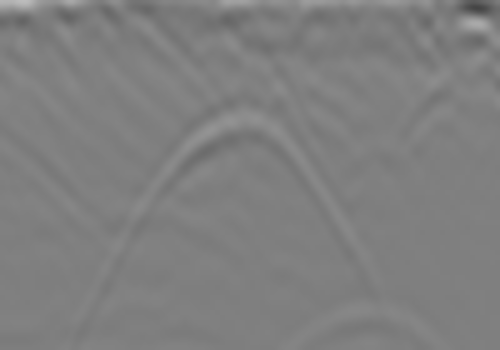hyperbola: (65, 102, 391, 339)
